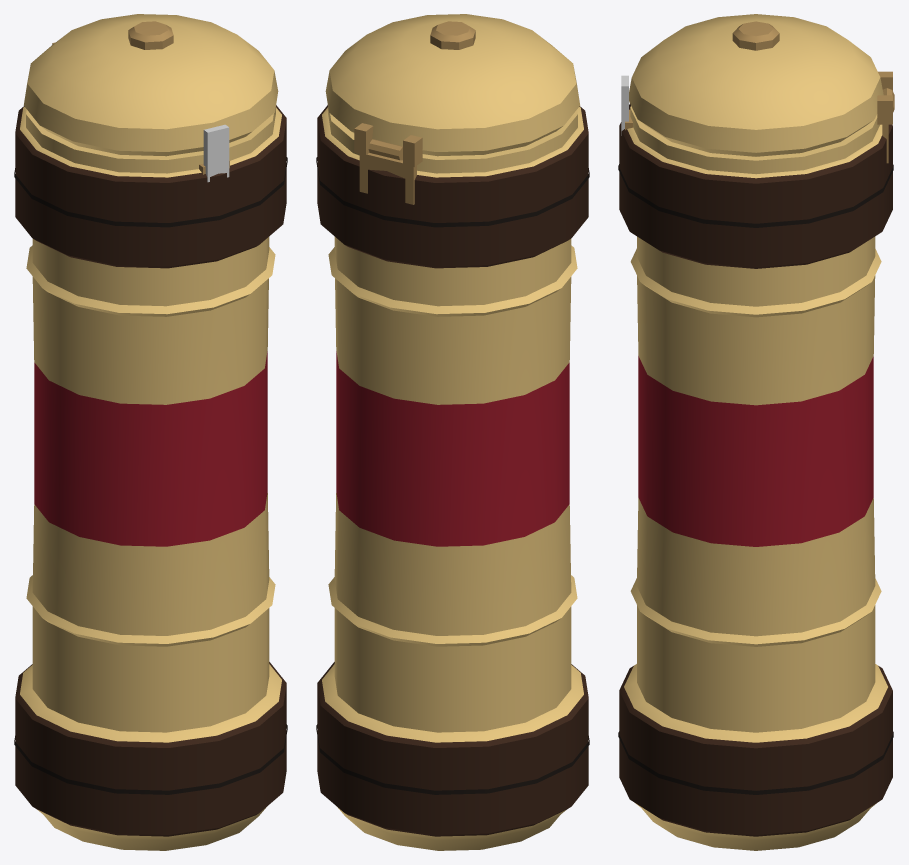
Rendered from canister.glb.
3 views of the same model, side by side, from view 1: azimuth 30°, elevation 25°; view 2: azimuth 150°, elevation 25°; view 3: azimuth 270°, elevation 25° (orthographic).
Visible parts, largest first — view 1: canister, canister_cap; view 2: canister, canister_cap; view 3: canister, canister_cap.
Part boxes in pixels (x1,y1,x2,y2): canister: (14, 105, 287, 850); canister_cap: (23, 14, 278, 182); canister: (316, 105, 589, 850); canister_cap: (325, 14, 580, 166); canister: (618, 88, 894, 850); canister_cap: (621, 14, 892, 156).
Size of the model in its own units: 0.0704 by 0.2224 by 0.0706.
